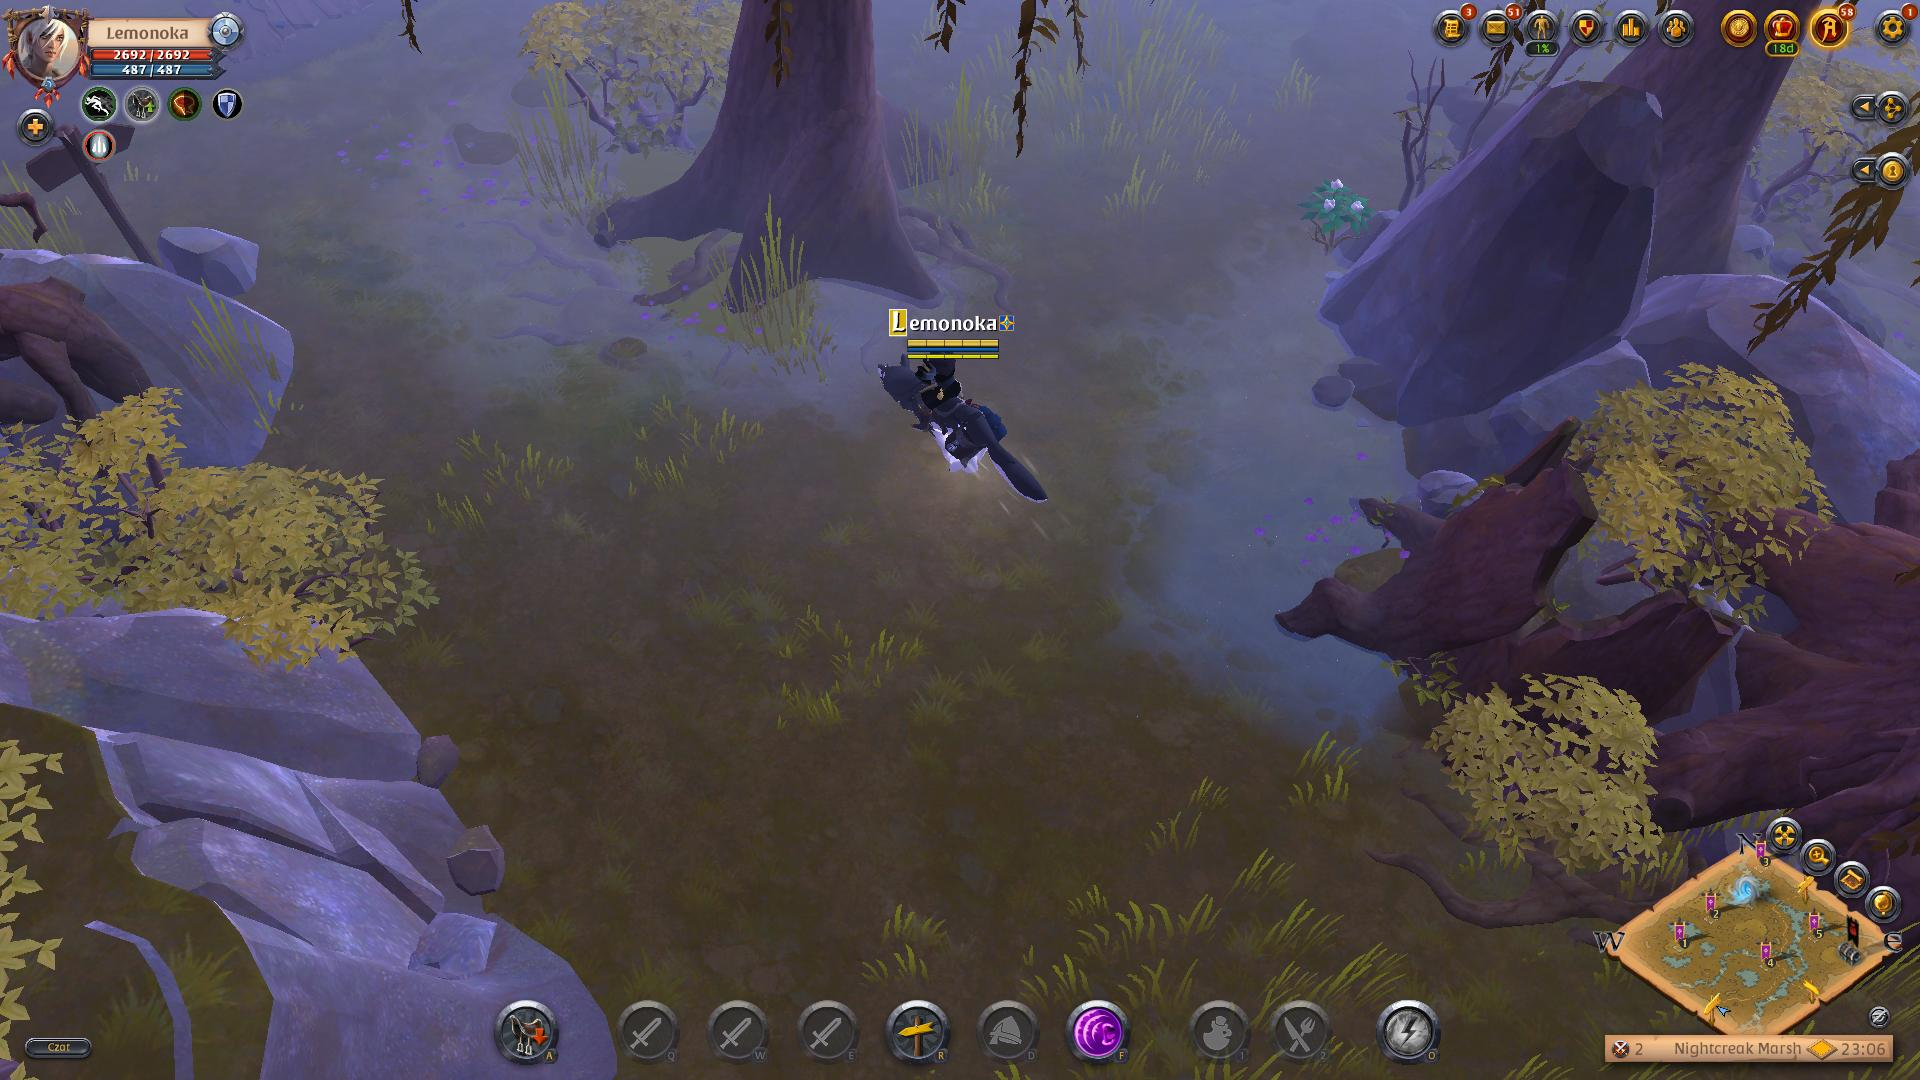fiber tier 3: (1288, 173, 1383, 260)
